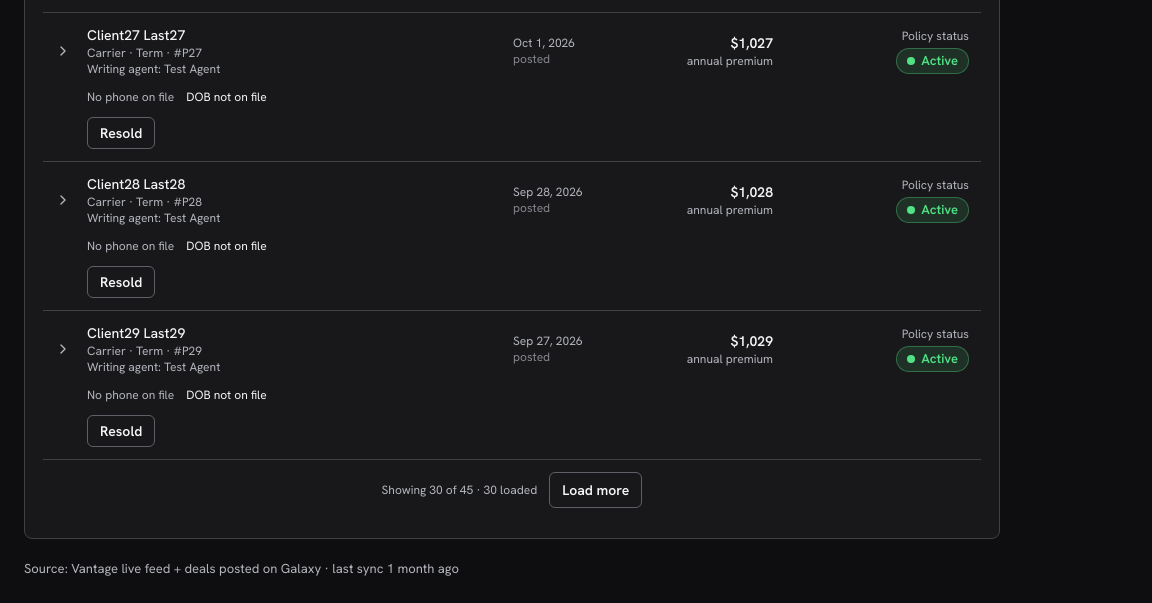
Test: Book of Business › offers Load more when the server cut the first page short, and the next page continues after the last row (F09)
(page scrolled)
Click the button "Load more". click: [596, 490]
box: x1=549 y1=472 x2=642 y2=508
(page scrolled)
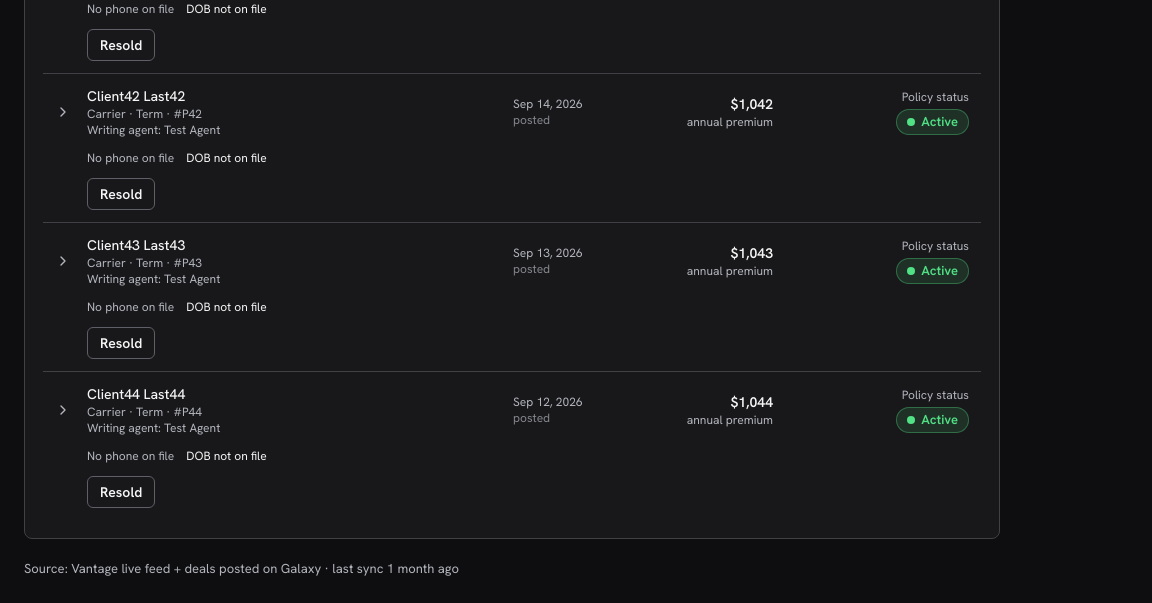
Check: the text "Client44 Last44" is shown, box x1=87 y1=385 x2=185 y2=403
Check: the button "Load more" is gone
Check: the text "loaded" is gone
